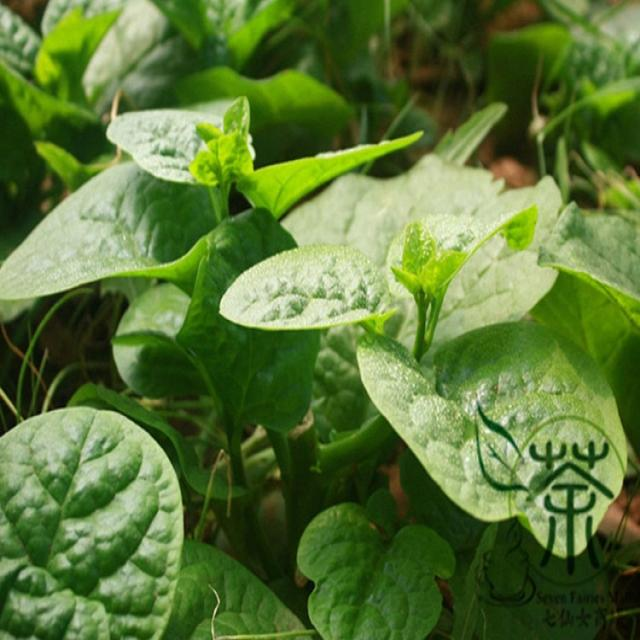Medicinal-Basale: (16, 48, 633, 390), (0, 399, 454, 640)
